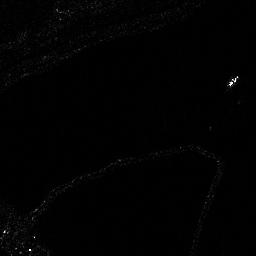ship: (227, 73, 239, 87)
